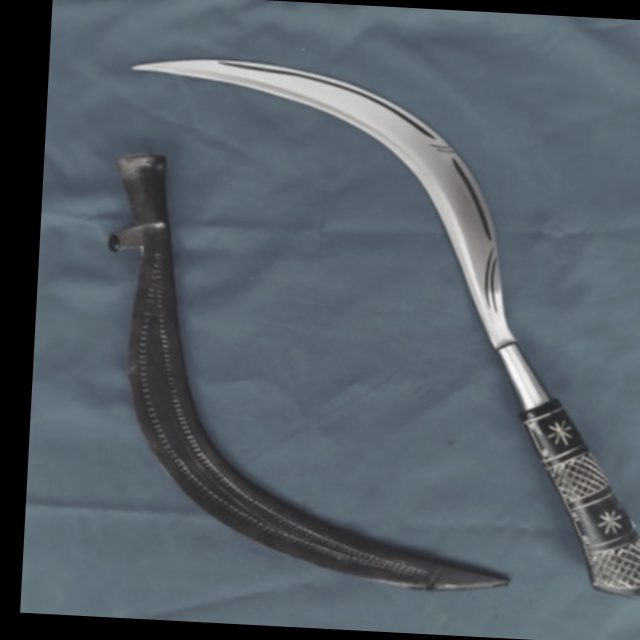Sharp-Object: (152, 16, 640, 603)
